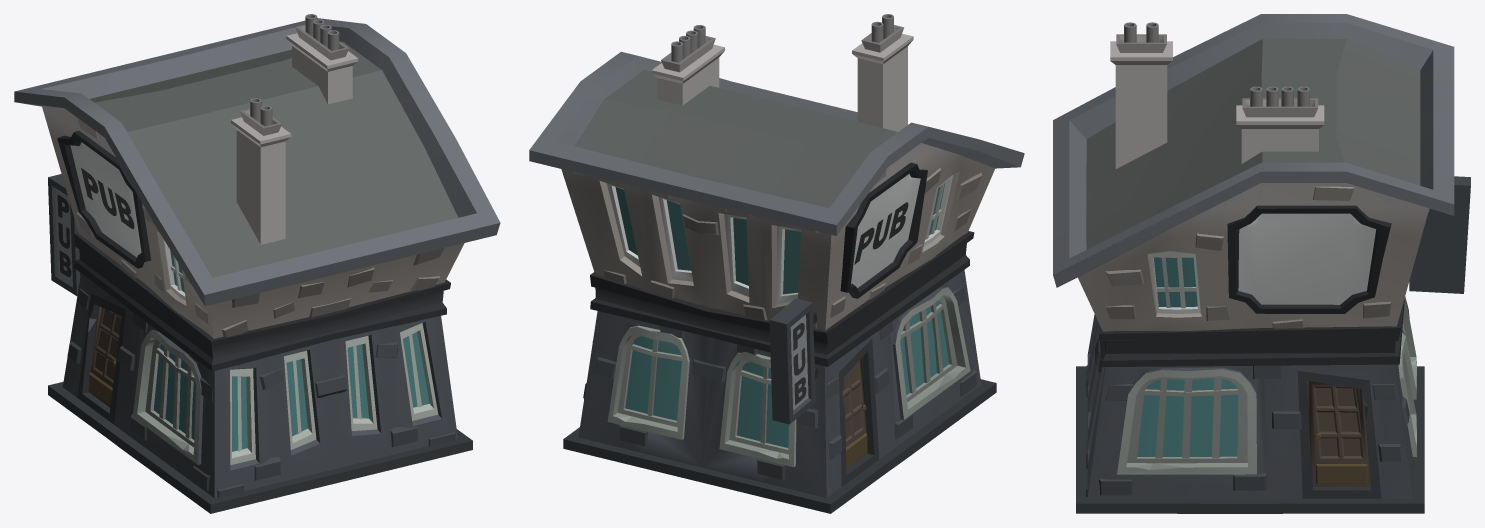
The model's file is House_3.fbx.
3 renders of one model, left to right at view 1: azimuth 30°, elevation 25°; view 2: azimuth 150°, elevation 25°; view 3: azimuth 270°, elevation 25°, orthographic. The views are drawn at different scales.
Parts seen in each view (by area): view 1: House_3; view 2: House_3; view 3: House_3.
Part boxes in pixels (left/top/right/bottom): House_3: left=14, top=14, right=500, bottom=513; House_3: left=529, top=14, right=1024, bottom=513; House_3: left=1053, top=14, right=1470, bottom=513.
Bounding box in the file's own units: 156 × 183 × 175.
